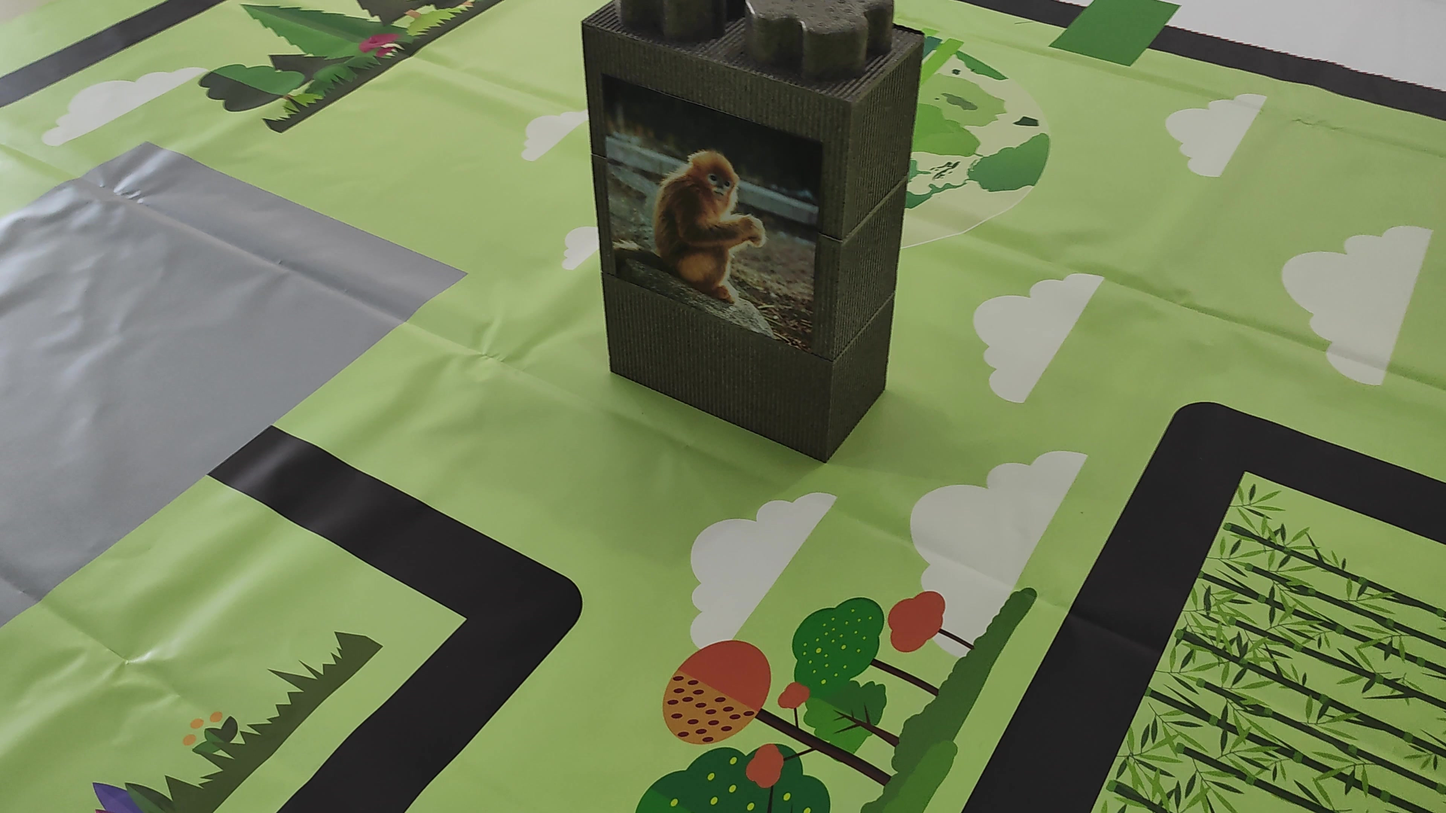monkey: (609, 123, 777, 314)
